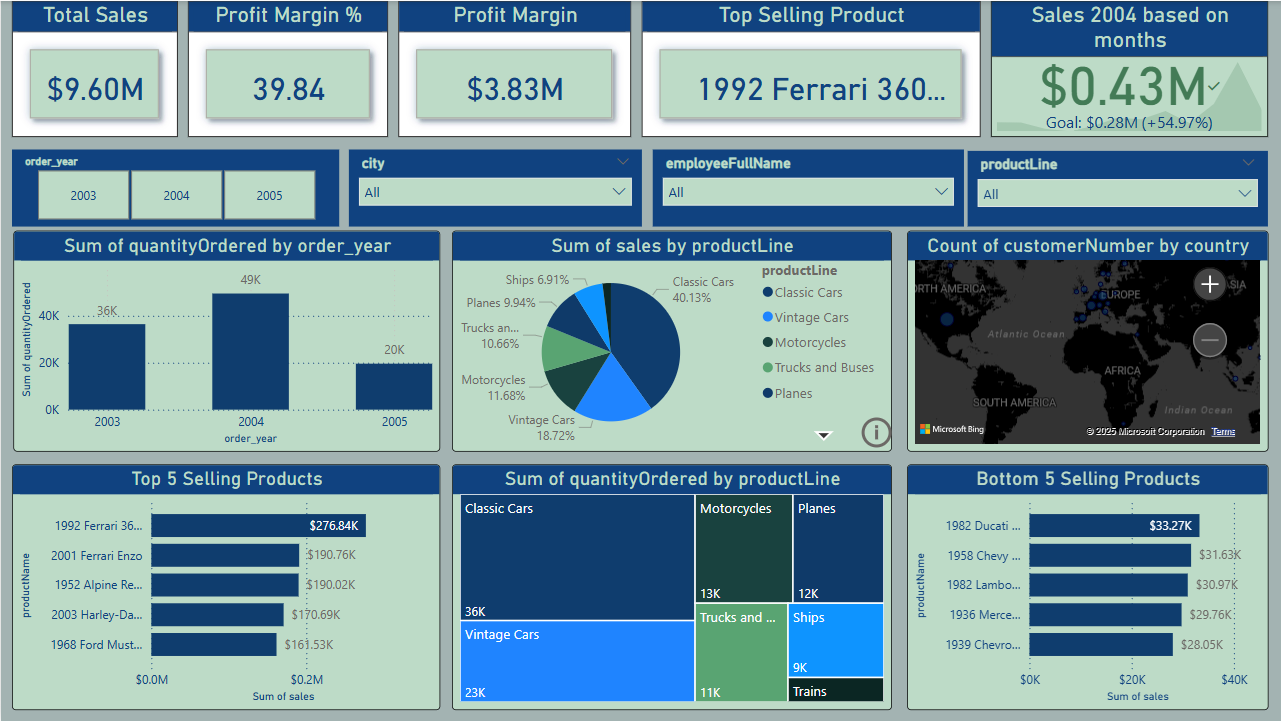

This screenshot's page, from the dashboard's own definition file:
{"tool":"powerbi","page":{"name":"Page 1","canvas":[1280,720],"ordinal":0},"visuals":[{"type":"cardVisual","title":"Profit Margin","fields":{"Data":["order details.total_profit"]},"box":[397.1,0,232.9,135.7],"z":0},{"type":"cardVisual","title":"Top Selling Product","fields":{"Data":["order details.MostOrderedProduct"]},"box":[641.4,0,338.6,135.7],"z":1000},{"type":"barChart","title":"Top 5 Selling Products","fields":{"Category":["products.productName"],"Y":["order details.sales"]},"box":[11.4,462.9,428.6,245.7],"z":2000},{"type":"pieChart","fields":{"Category":["products.productLine"],"Y":["order details.sales"]},"box":[451.4,230,440,221.4],"z":3000},{"type":"slicer","fields":{"Values":["orders.order_year"]},"box":[11.4,148.6,327.1,77.1],"z":4000},{"type":"kpi","title":"Sales 2004 based on months","fields":{"Goal":["order details.sales_2003"],"TrendLine":["orders.Month Name"],"Indicator":["order details.sales_2004"]},"box":[990,0,277.1,135.7],"z":5000},{"type":"map","fields":{"Category":["customers.country"],"Size":["customers.customerNumber"]},"box":[905.7,230,361.4,221.4],"z":6000},{"type":"treemap","fields":{"Group":["products.productLine"],"Values":["order details.quantityOrdered"]},"box":[451.4,462.9,440,245.7],"z":7000},{"type":"columnChart","fields":{"Category":["orders.order_year"],"Y":["order details.quantityOrdered"]},"box":[12.9,230,427.1,221.4],"z":8000},{"type":"cardVisual","title":"Profit Margin %","fields":{"Data":["order details.profit_Margin_%"]},"box":[187.1,0,200,135.7],"z":9000},{"type":"cardVisual","title":"Total Sales","fields":{"Data":["order details.sales"]},"box":[11.4,0,165.7,135.7],"z":10000},{"type":"slicer","fields":{"Values":["offices.city"]},"box":[348.6,148.6,292.9,77.1],"z":11000},{"type":"slicer","fields":{"Values":["employees.employeeFullName"]},"box":[651.4,148.6,311.4,77.1],"z":12000},{"type":"slicer","fields":{"Values":["products.productLine"]},"box":[967.1,150,300,75.7],"z":13000},{"type":"barChart","title":"Bottom 5 Selling Products","fields":{"Category":["products.productName"],"Y":["order details.sales"]},"box":[905.7,462.9,361.4,245.7],"z":14000},{"type":"actionButton","box":[855.7,411.4,50,40],"z":15000}]}

Visuals, with their boxes in screenshot pixels (x1, y1, x2, y2), scaled from the page's 1280x720 canvas onto the 1281x721 screenshot:
"Profit Margin" cardVisual: rect(397, 0, 630, 136)
"Top Selling Product" cardVisual: rect(642, 0, 981, 136)
"Top 5 Selling Products" barChart: rect(11, 464, 440, 710)
pieChart - products.productLine x order details.sales: rect(452, 230, 892, 452)
slicer - orders.order_year: rect(11, 149, 339, 226)
"Sales 2004 based on months" kpi: rect(991, 0, 1268, 136)
map - customers.country x customers.customerNumber: rect(906, 230, 1268, 452)
treemap - products.productLine x order details.quantityOrdered: rect(452, 464, 892, 710)
columnChart - orders.order_year x order details.quantityOrdered: rect(13, 230, 440, 452)
"Profit Margin %" cardVisual: rect(187, 0, 387, 136)
"Total Sales" cardVisual: rect(11, 0, 177, 136)
slicer - offices.city: rect(349, 149, 642, 226)
slicer - employees.employeeFullName: rect(652, 149, 964, 226)
slicer - products.productLine: rect(968, 150, 1268, 226)
"Bottom 5 Selling Products" barChart: rect(906, 464, 1268, 710)
actionButton: rect(856, 412, 906, 452)
